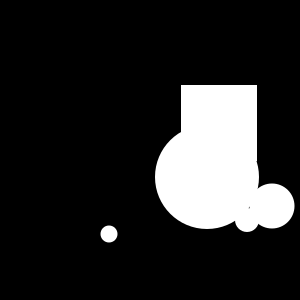circle: (181, 85, 257, 161)
rectangle: (155, 125, 259, 229), (250, 184, 294, 228), (235, 208, 259, 232), (100, 226, 118, 242)
